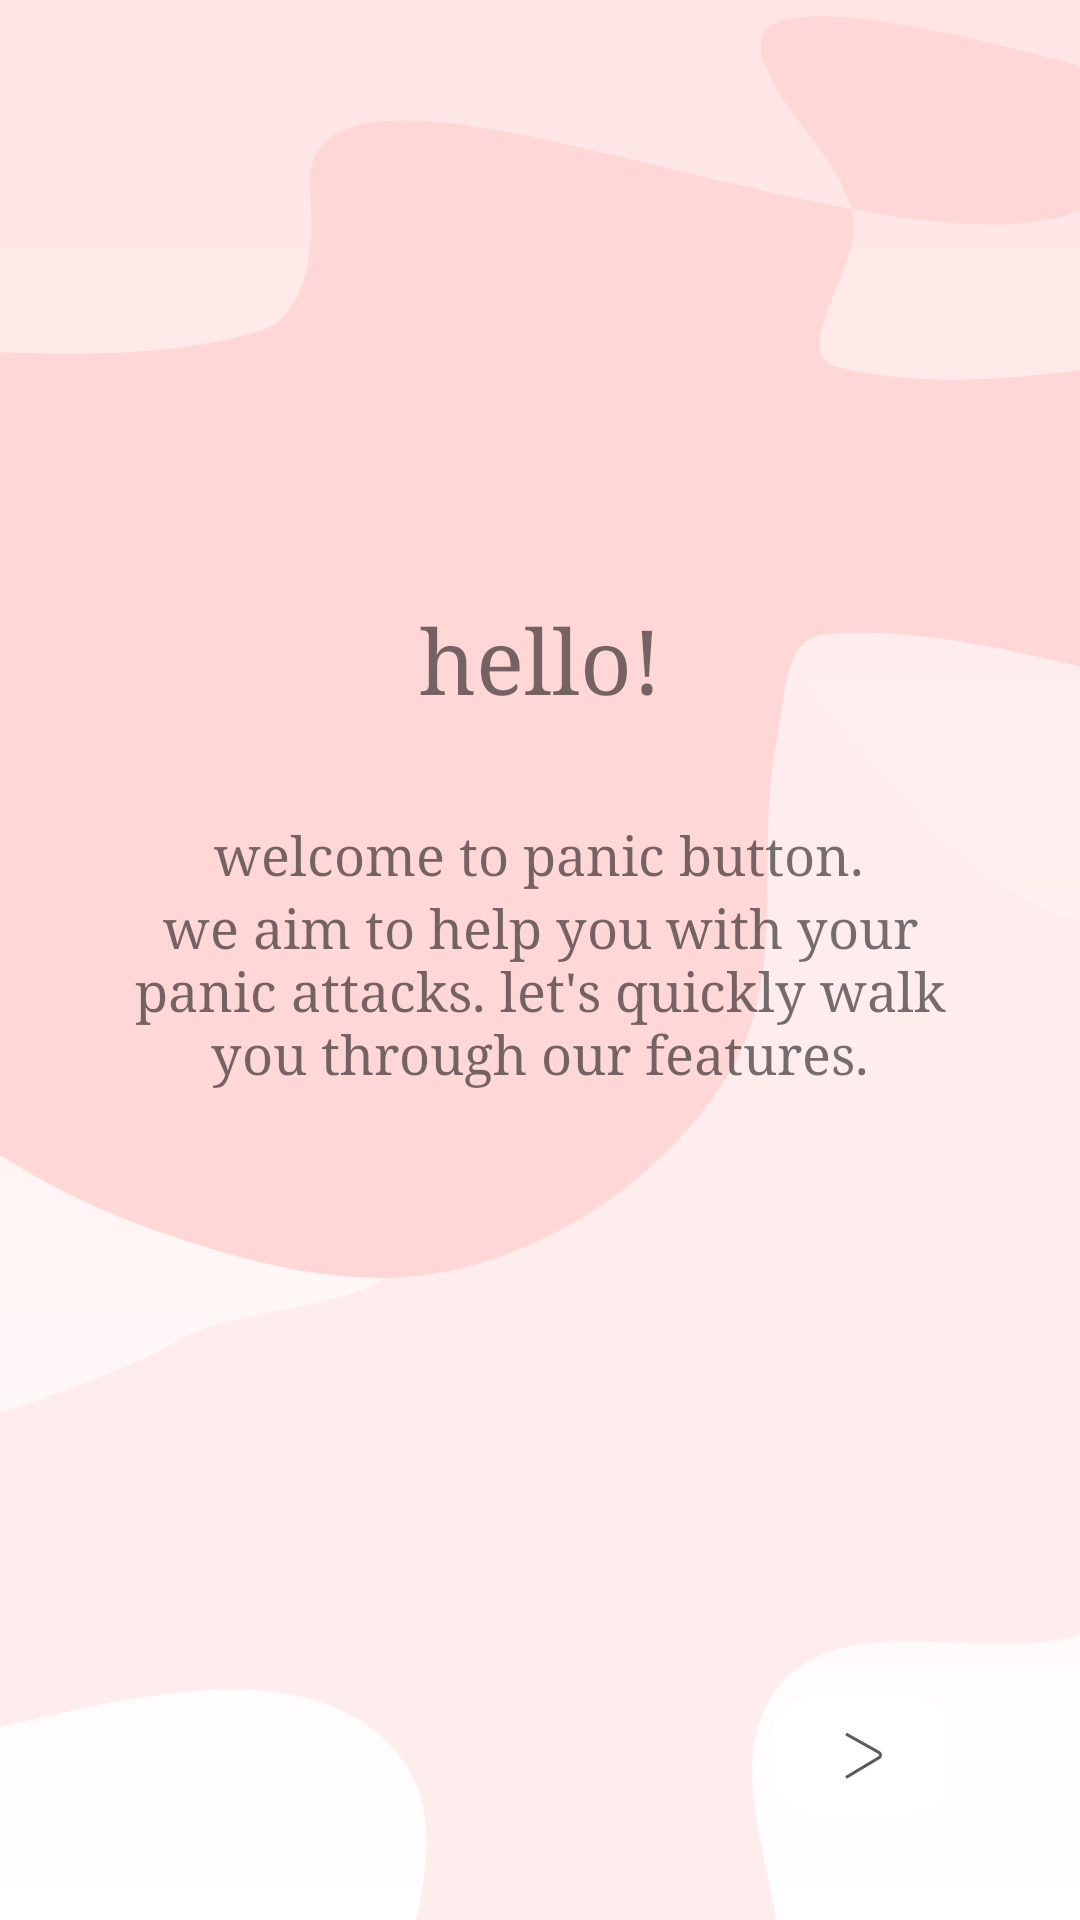

Icons on this 1080w x 1920h Android screen, each with the point to tap as [x,y]:
next: [901,1750]
